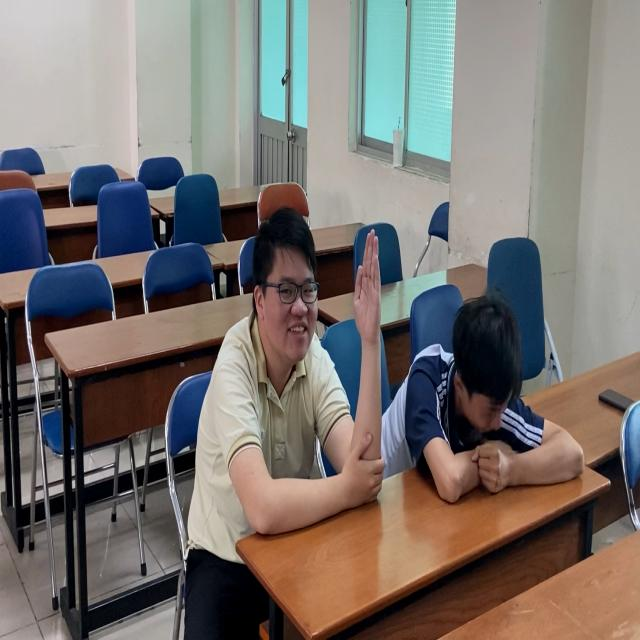raise_hand: (212, 200, 382, 552)
sleep: (385, 298, 588, 500)
